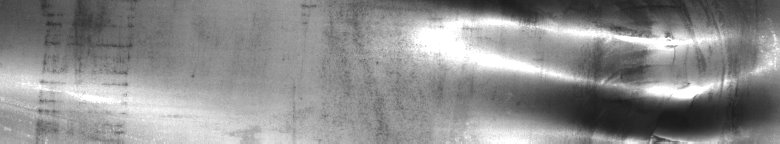ke: (425, 4, 776, 136)
